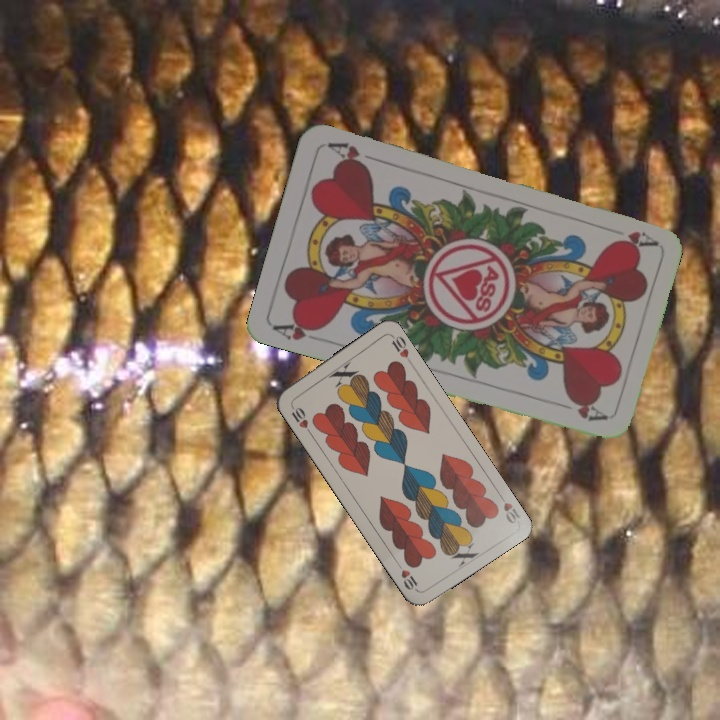H10: (494, 488, 523, 526), (286, 400, 314, 437)
HA: (270, 315, 329, 345), (614, 227, 658, 250)
